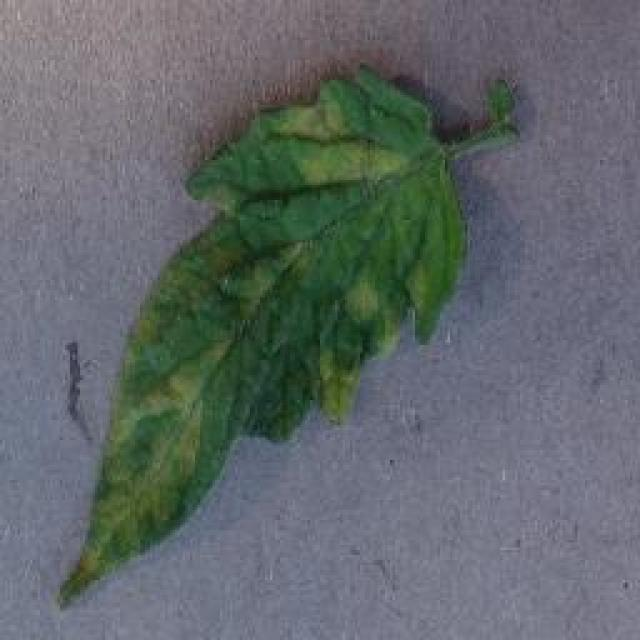Tomato___Leaf_Mold: (58, 65, 520, 608)
